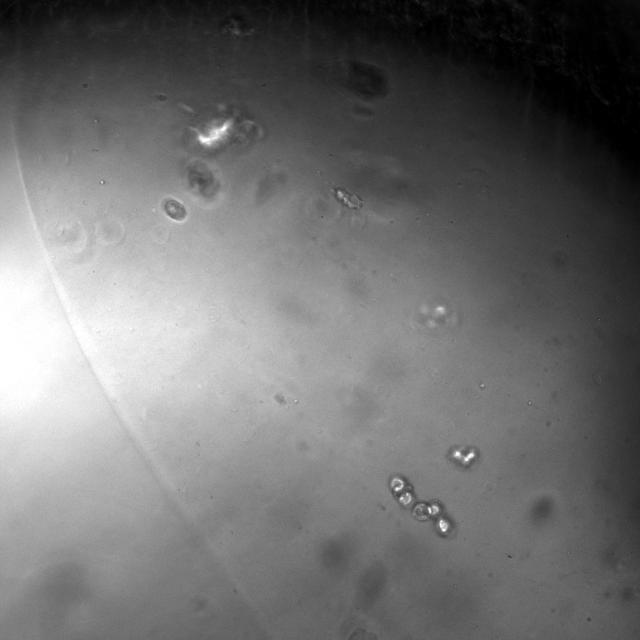organoid: (183, 104, 262, 157), (389, 475, 453, 537), (186, 159, 220, 199), (446, 445, 479, 468), (162, 197, 188, 222)
